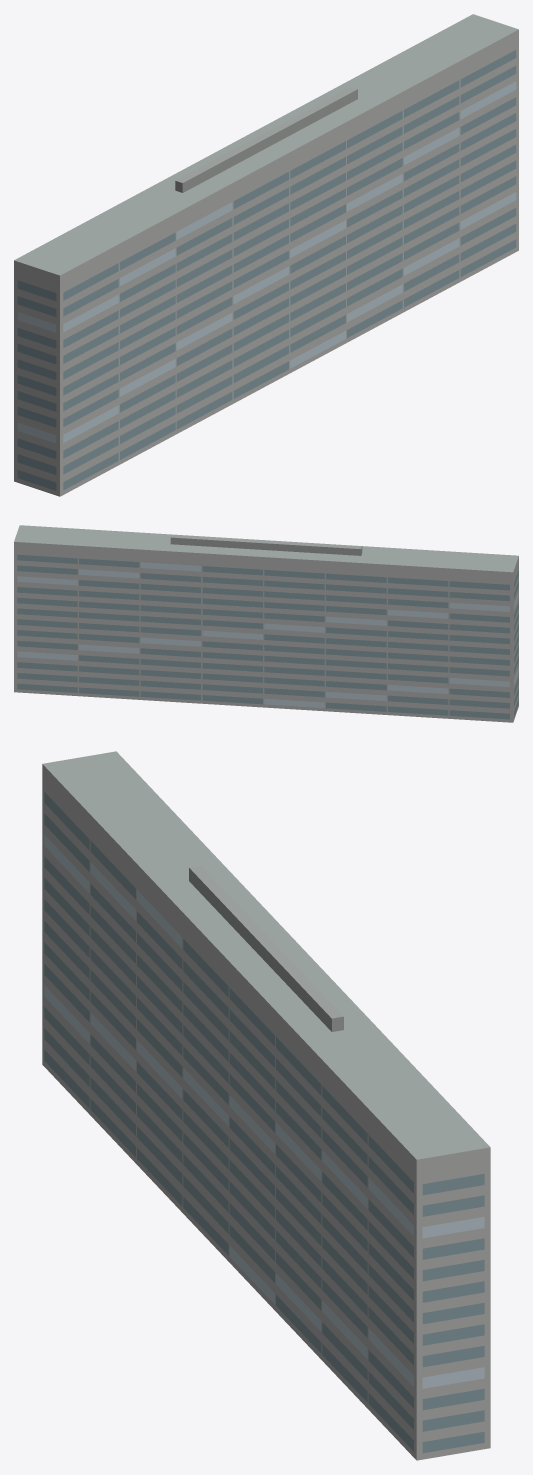
File: fallback-daechi-eunma-19.glb
The picture shows the model from 3 angles, top to bottom: view 1: azimuth 30°, elevation 25°; view 2: azimuth 150°, elevation 25°; view 3: azimuth 270°, elevation 25°; orthographic projection. The views are drawn at different scales.
Visible parts, largest first — view 1: fallback-daechi-eunma-19; view 2: fallback-daechi-eunma-19; view 3: fallback-daechi-eunma-19.
Part boxes in pixels (x1,y1,x2,y2): fallback-daechi-eunma-19: (14,14,518,496); fallback-daechi-eunma-19: (14,525,518,722); fallback-daechi-eunma-19: (42,751,490,1460).
Bounding box in the file's own units: 124 × 44.62 × 57.65.
